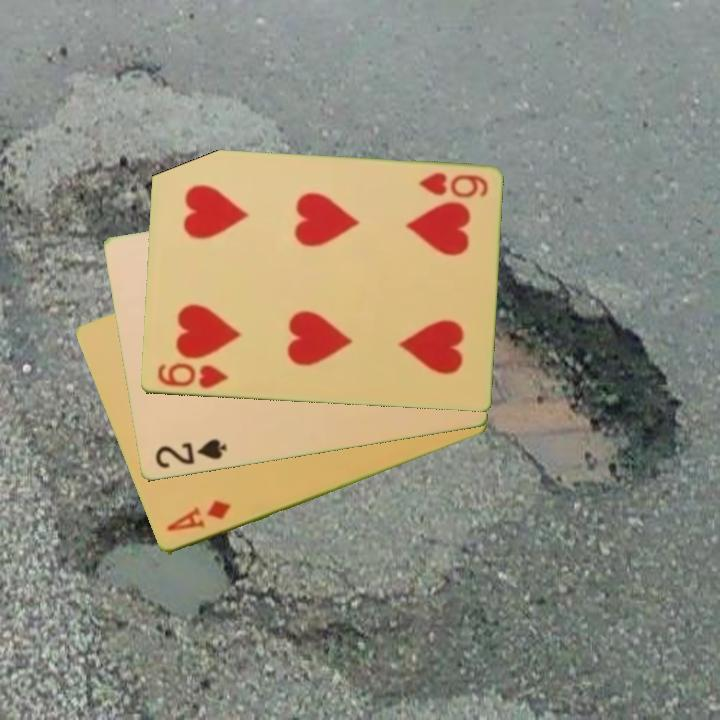2s: (151, 436, 230, 472)
6h: (153, 360, 231, 392), (415, 170, 490, 201)
Ad: (162, 497, 233, 535)
